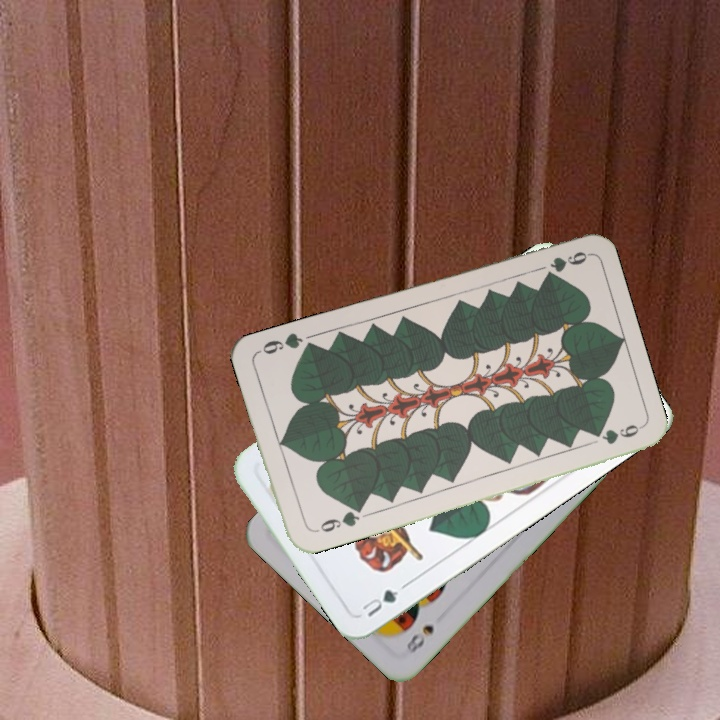G9: (308, 504, 364, 536), (540, 247, 591, 281)
GU: (358, 580, 409, 620)
S8: (402, 620, 437, 656)
